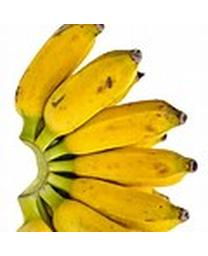banana: (14, 24, 198, 231)
